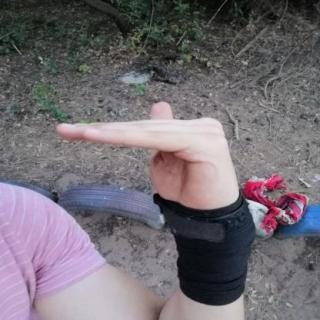KHAA: (44, 91, 260, 219)
